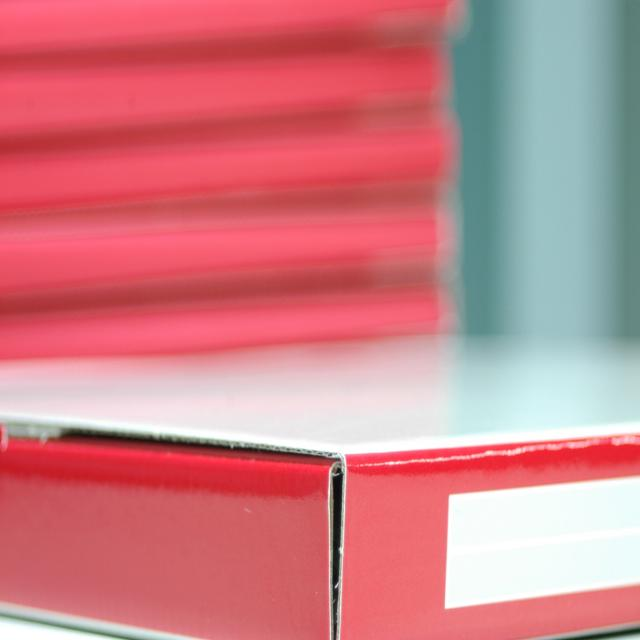Box: (0, 330, 639, 639)
